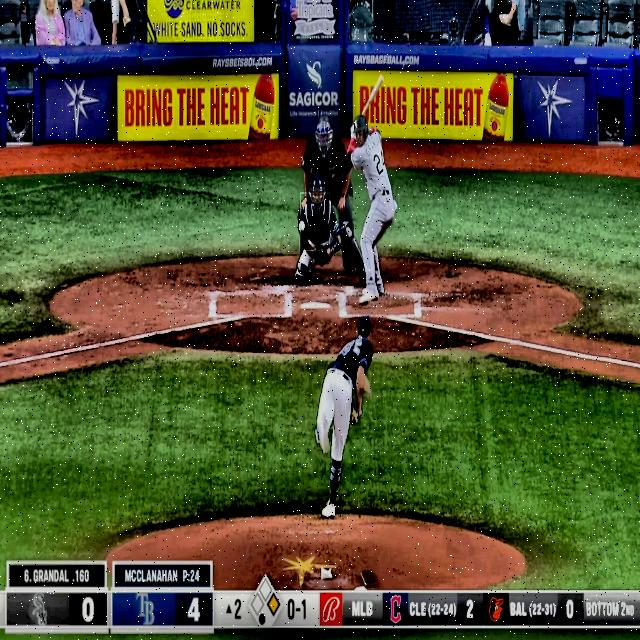baseball: (299, 220, 305, 233)
